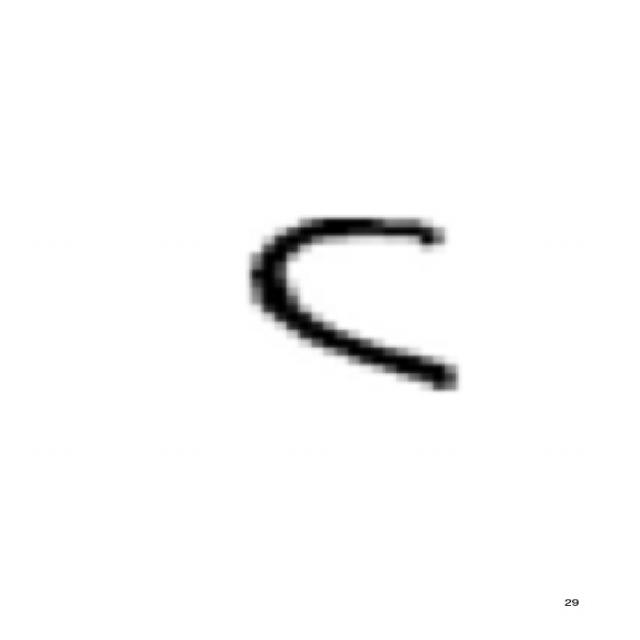2 -two-: (234, 200, 481, 406)
